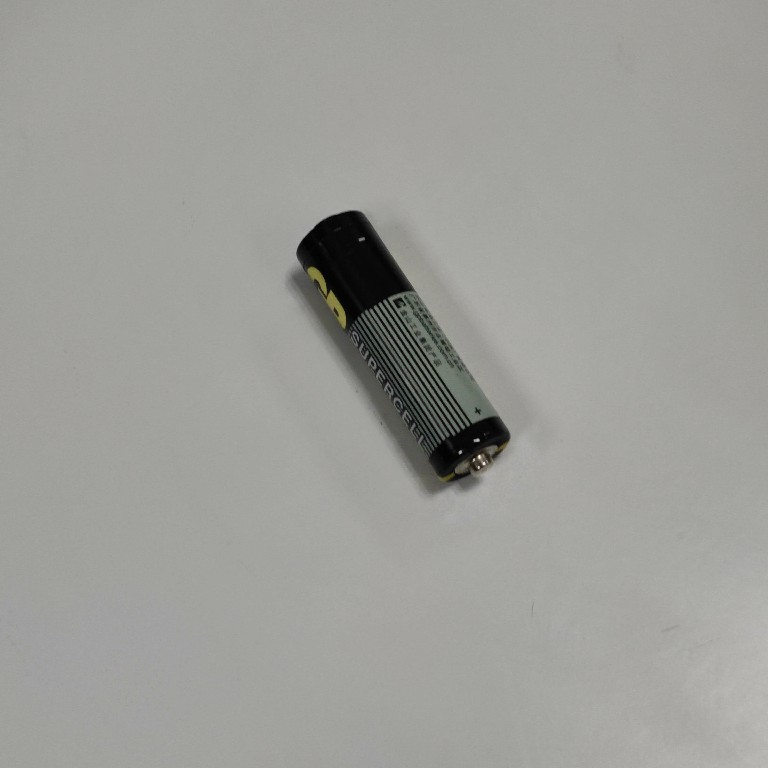charge: (294, 207, 513, 489)
